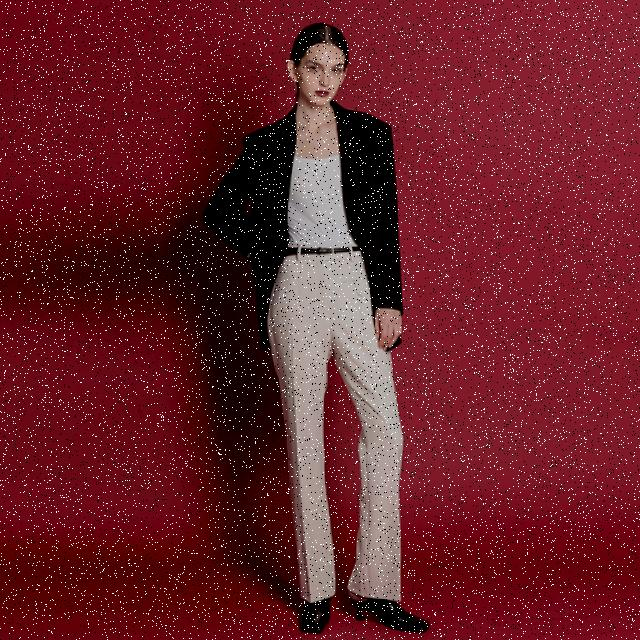dress: (274, 237, 405, 603)
